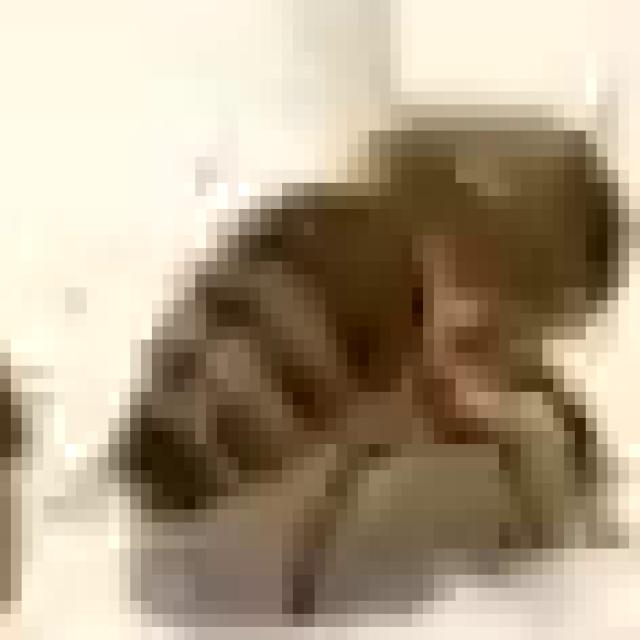honeybee: (99, 87, 632, 627)
